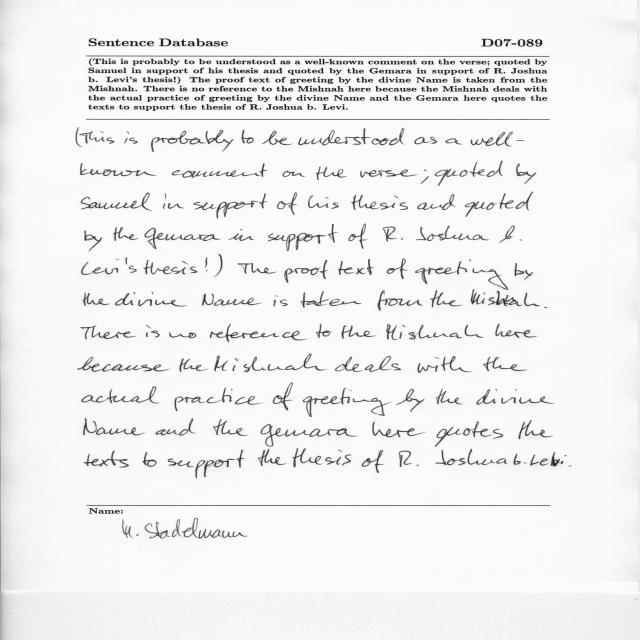word: (415, 259, 508, 290), (303, 388, 391, 417), (260, 424, 358, 447), (168, 450, 245, 478), (175, 388, 262, 412), (214, 354, 327, 372), (193, 193, 267, 219), (268, 224, 337, 251), (151, 130, 234, 152), (299, 128, 405, 145), (435, 421, 503, 447), (210, 324, 306, 342), (435, 161, 503, 186), (465, 192, 533, 217), (144, 228, 221, 249), (386, 324, 484, 340), (172, 163, 268, 178), (78, 357, 170, 372), (82, 387, 159, 404), (81, 193, 152, 211), (476, 389, 554, 405), (471, 290, 540, 307), (416, 225, 489, 241), (436, 449, 508, 465), (293, 449, 351, 468), (115, 292, 187, 307), (335, 356, 401, 372), (301, 291, 362, 308), (84, 419, 144, 436), (284, 260, 328, 283), (82, 257, 137, 275), (80, 163, 156, 176), (377, 290, 423, 311), (418, 356, 472, 373), (351, 195, 408, 210), (373, 422, 425, 438), (144, 260, 198, 275), (471, 132, 524, 147), (202, 293, 262, 306), (84, 451, 129, 468), (81, 326, 136, 339), (155, 419, 196, 436), (518, 420, 553, 439), (396, 389, 424, 412), (417, 194, 456, 210), (483, 357, 527, 371), (213, 419, 248, 436), (495, 324, 537, 338), (338, 259, 374, 275), (273, 383, 293, 411), (76, 128, 105, 147), (430, 291, 462, 308), (362, 450, 384, 473), (530, 452, 566, 466), (348, 224, 368, 249), (341, 325, 376, 339), (258, 449, 286, 466), (360, 170, 418, 178), (277, 192, 297, 215), (516, 163, 537, 184), (387, 258, 408, 279), (316, 166, 347, 180), (308, 195, 339, 209), (436, 389, 463, 405), (238, 263, 277, 274), (262, 131, 292, 145), (500, 225, 522, 243), (180, 358, 208, 372), (113, 227, 139, 241), (83, 292, 109, 306), (85, 230, 102, 251), (163, 193, 184, 209), (399, 451, 419, 467), (515, 263, 533, 280), (229, 229, 254, 241), (383, 227, 403, 242), (316, 324, 332, 338), (143, 452, 157, 467), (214, 255, 223, 277), (414, 137, 437, 145), (124, 131, 138, 144), (241, 130, 254, 143), (146, 325, 159, 338), (169, 333, 196, 339), (282, 170, 305, 177), (274, 296, 288, 307), (514, 454, 527, 465), (420, 169, 429, 184), (445, 139, 463, 145), (107, 137, 115, 144), (205, 258, 208, 271), (544, 307, 547, 308), (570, 466, 572, 467)
